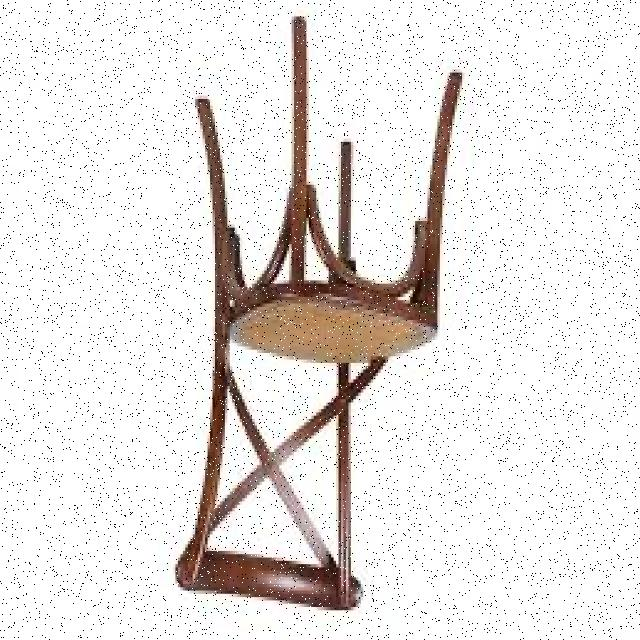bottle: (178, 14, 464, 612)
